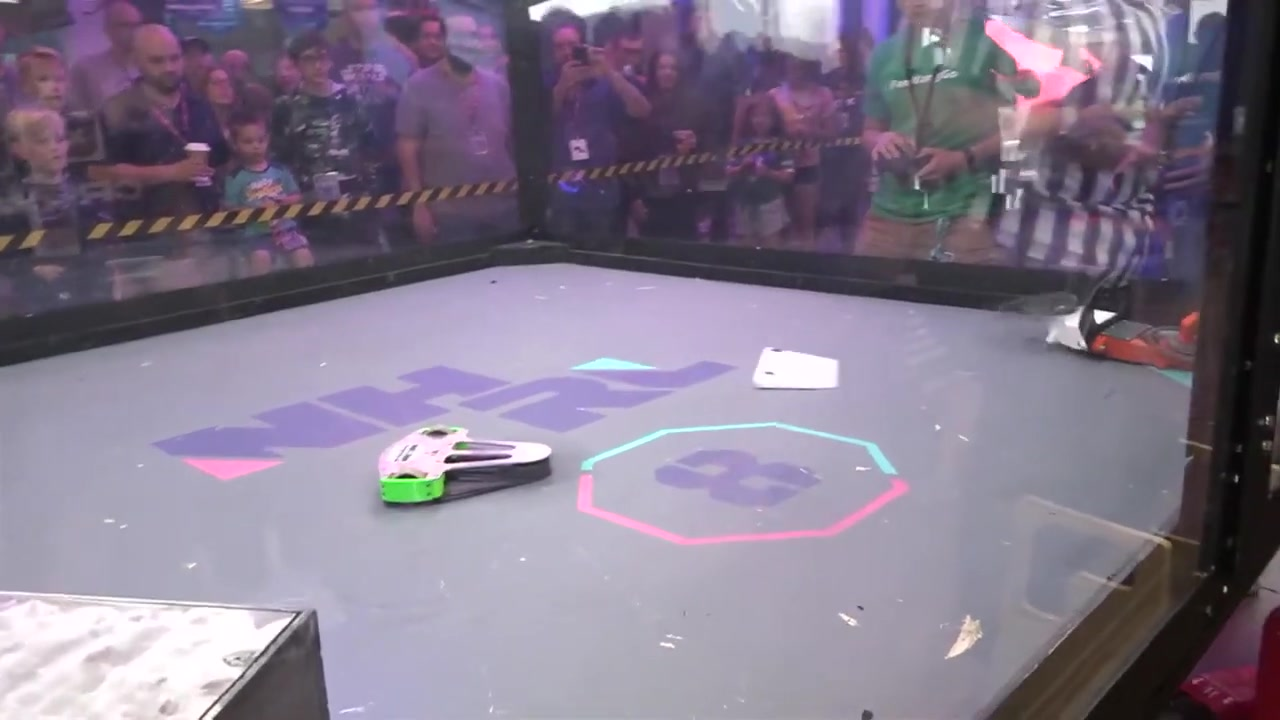combatbot: (1003, 271, 1199, 374), (376, 426, 554, 507)
housebot: (0, 590, 330, 720)
minibot: (749, 345, 839, 389)
